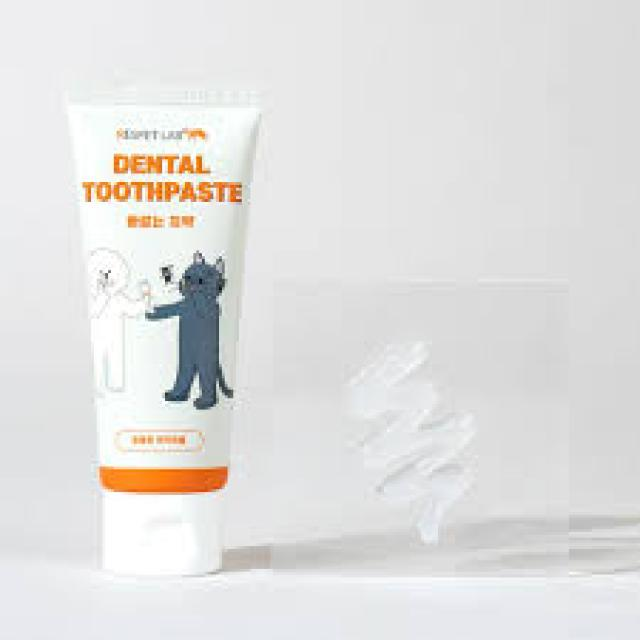toothpaste: (51, 78, 268, 592)
